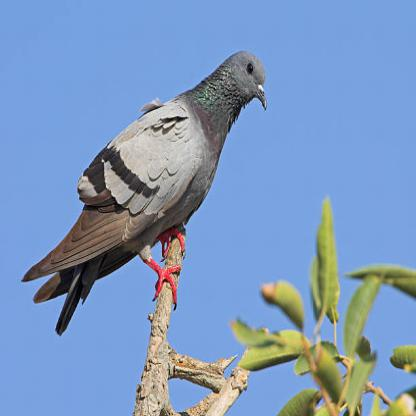Flying Rat: (18, 45, 273, 338)
